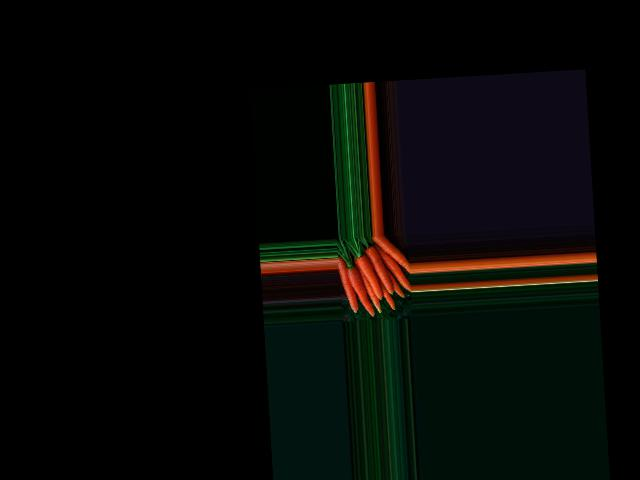carrot: (368, 235, 411, 282)
